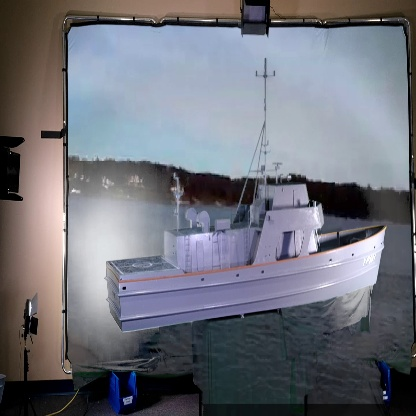YP689: (106, 44, 388, 332)
